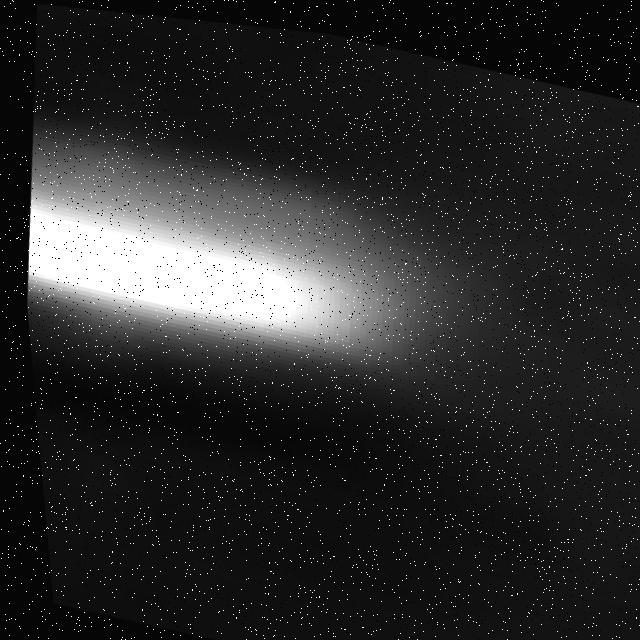person: (8, 103, 453, 402)
